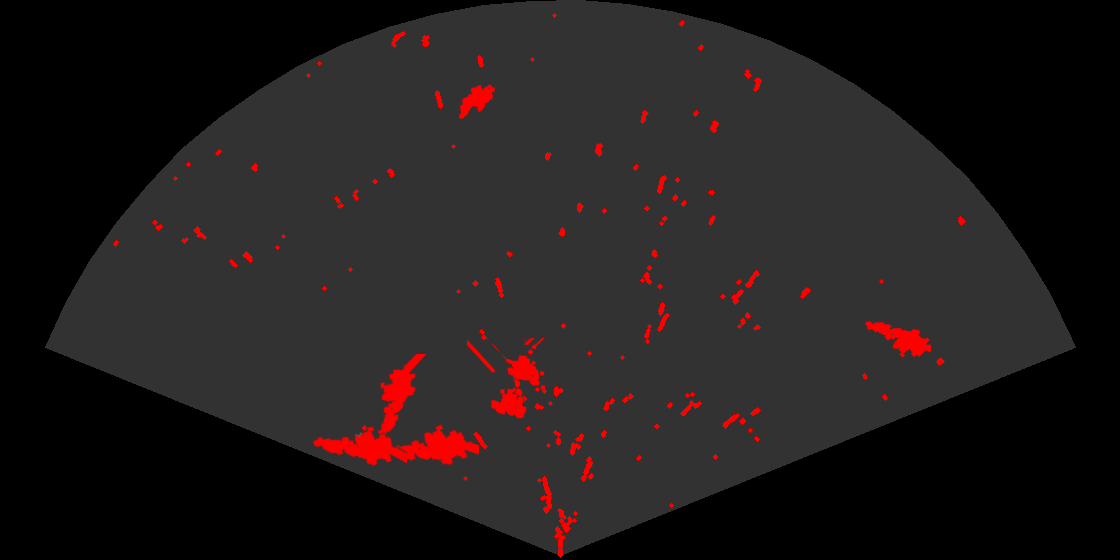AUV: (457, 83, 497, 120)
cage: (467, 338, 547, 420)
frogman: (376, 354, 428, 441), (380, 422, 479, 467), (311, 425, 407, 468), (863, 320, 931, 359)
